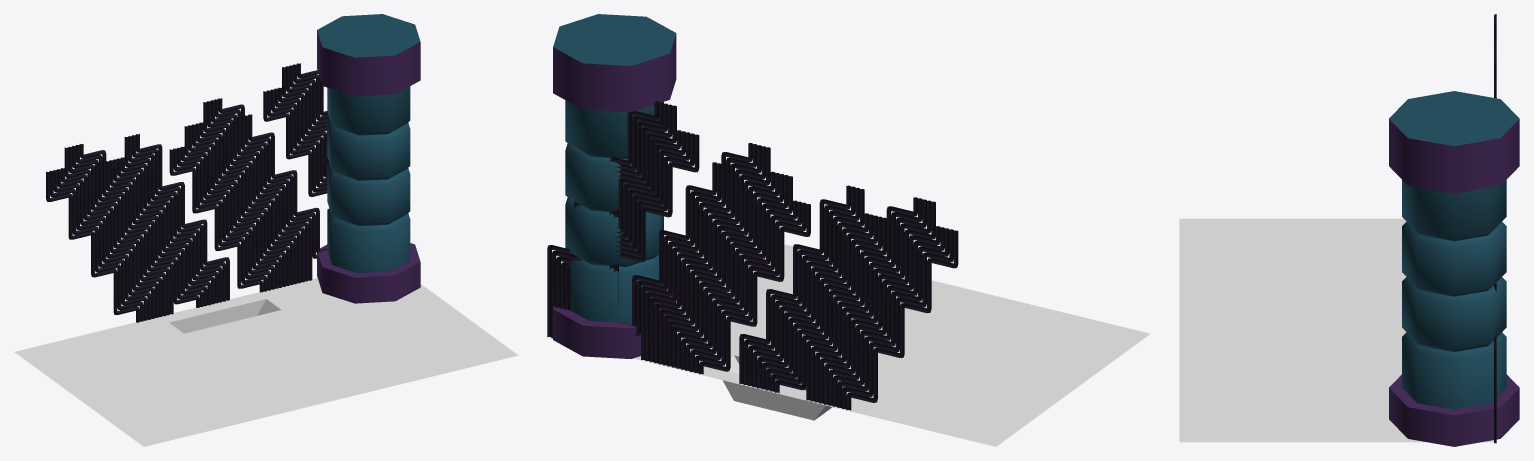
Rendered from backboard.fbx.
3 renders of one model, left to right at view 1: azimuth 30°, elevation 25°; view 2: azimuth 150°, elevation 25°; view 3: azimuth 270°, elevation 25°, orthographic. The views are drawn at different scales.
Visible parts, largest first — view 1: Plane.001; view 2: Plane.001; view 3: Plane.001.
Boxes of the visible parts, x1=… form: Plane.001: x1=14, y1=14, x2=518, y2=446; Plane.001: x1=547, y1=14, x2=1150, y2=446; Plane.001: x1=1179, y1=14, x2=1519, y2=446.
Bounding box in the file's own units: 1024 × 688 × 644.
